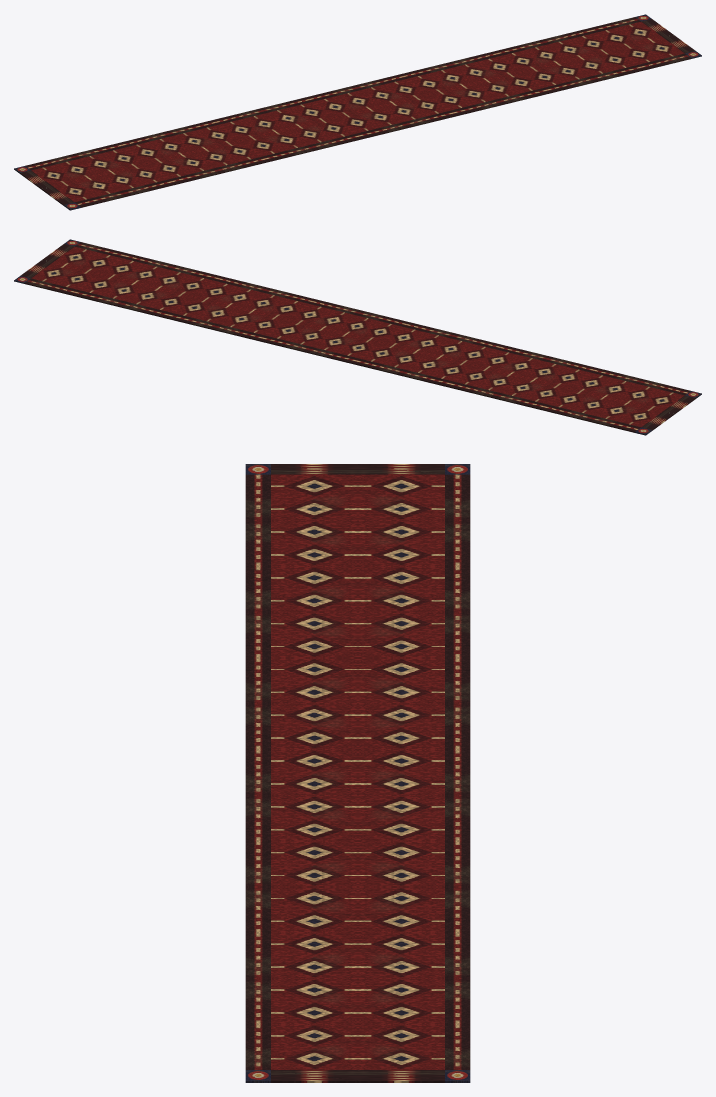
The model's file is Runner_Hall.fbx.
3 renders of one model, top to bottom at view 1: azimuth 30°, elevation 25°; view 2: azimuth 150°, elevation 25°; view 3: azimuth 270°, elevation 25°, orthographic. The views are drawn at different scales.
Parts seen in each view (by area): view 1: Runner_Hall; view 2: Runner_Hall; view 3: Runner_Hall.
Part boxes in pixels (x1,y1,x2,y2): Runner_Hall: (14, 14, 701, 210); Runner_Hall: (14, 239, 701, 435); Runner_Hall: (245, 464, 470, 1082).
Size of the model in its own units: 5.2 by 0.008 by 0.8.
